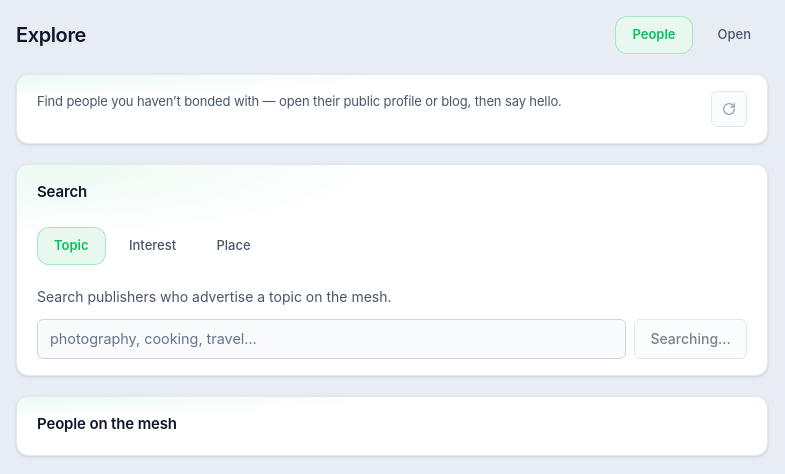
Scenario: BrowserView › renders the address bar with placeholder and disabled Go button
Click the tab with test id "browser-mode-open": x=734, y=35 [700,16,768,54]
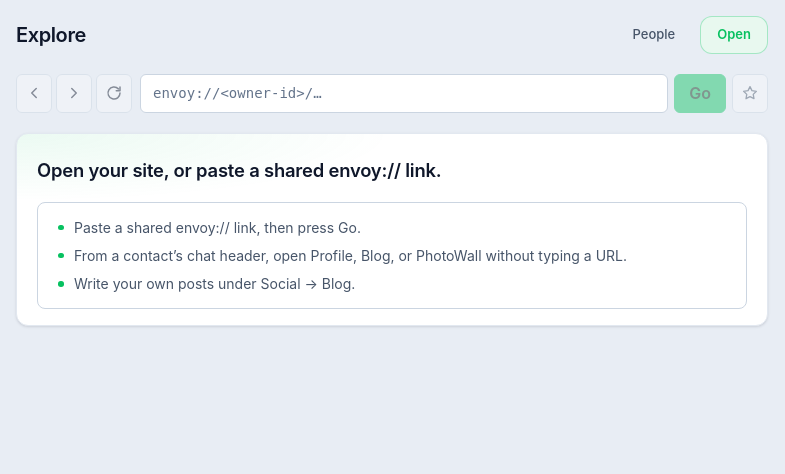
Expected: the field with test id "browser-address-bar" is shown, [140,74,668,112]
Expected: the button with test id "browser-go" is disabled, [674,74,726,112]
